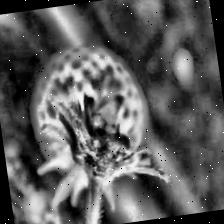Gray Mold: (51, 82, 169, 195)
